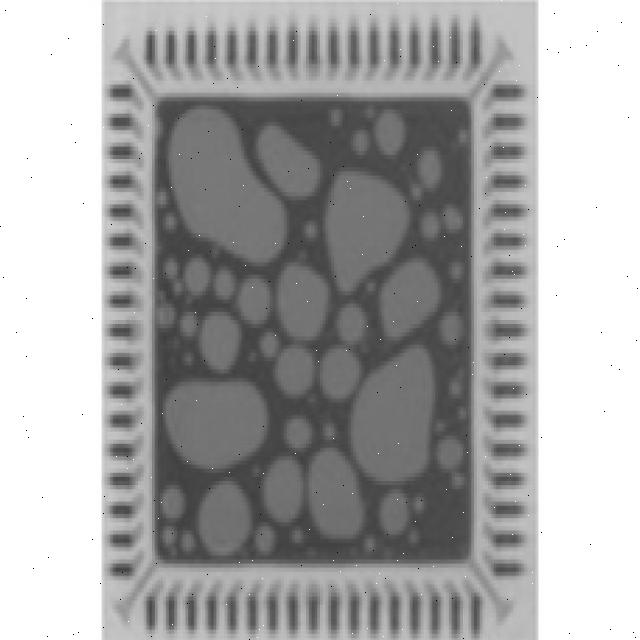Chip: (103, 0, 538, 640), (104, 0, 536, 640), (104, 0, 535, 640)
void: (104, 0, 539, 640), (104, 0, 538, 640), (104, 0, 537, 640), (169, 110, 283, 258), (350, 346, 435, 482), (324, 172, 409, 290), (163, 382, 265, 467), (309, 449, 363, 537), (381, 259, 440, 337), (259, 127, 319, 196), (198, 481, 251, 554), (278, 263, 327, 337), (262, 457, 300, 521), (199, 313, 238, 369), (275, 346, 313, 394), (235, 279, 269, 323), (321, 355, 356, 397), (374, 110, 405, 155), (380, 493, 409, 534), (107, 479, 140, 513), (337, 305, 365, 341), (182, 258, 208, 294), (418, 150, 442, 188), (107, 337, 137, 364), (438, 438, 463, 470), (107, 508, 137, 533), (161, 486, 184, 517), (286, 419, 309, 447), (441, 314, 463, 343), (444, 205, 463, 232), (107, 458, 133, 476), (107, 304, 127, 327), (107, 368, 133, 385), (107, 247, 133, 264), (215, 592, 225, 635), (422, 212, 439, 237), (107, 279, 133, 294), (121, 395, 138, 415), (174, 597, 186, 625), (353, 130, 366, 153), (104, 27, 112, 62), (107, 390, 119, 413), (107, 548, 132, 557), (107, 428, 132, 437), (330, 110, 342, 125), (194, 602, 203, 622), (114, 195, 133, 204), (318, 601, 324, 627), (139, 603, 147, 621), (459, 128, 467, 143), (156, 603, 161, 621), (112, 478, 127, 483), (419, 585, 425, 597), (115, 226, 128, 231), (123, 210, 127, 226), (107, 562, 119, 565), (346, 354, 349, 362)
